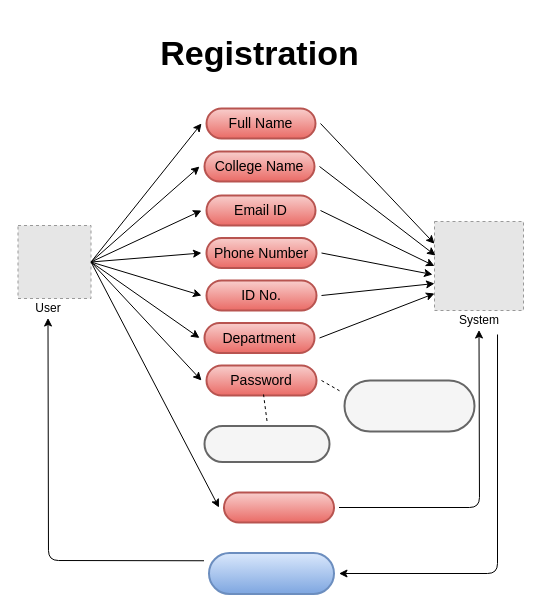
Image size: 541x612. Some labels were removed from this diagram. Grey dashed boxes stand in for pictures. Each missing label, with the centre of its shape:
1 Uppercase, 1 Numeric and 1 special Symbol: point 409,405
Account Created: point 271,573
Atleast 8 Character: point 266,443
Pass.Confirm: point 278,507
